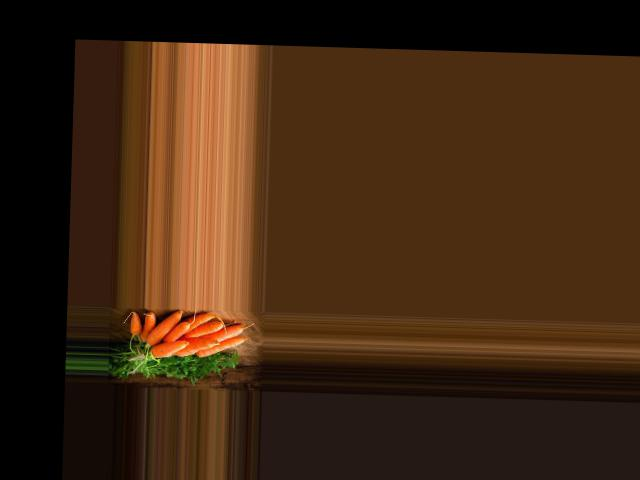carrot: (126, 312, 141, 339)
